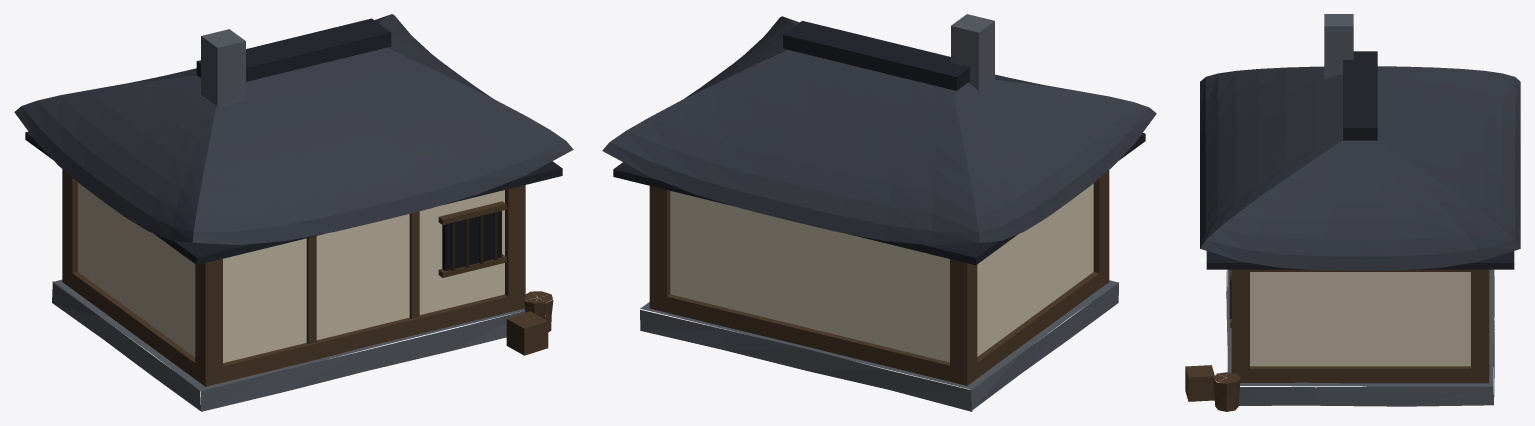
The model's file is 2-06_blacksmith.glb.
The picture shows the model from 3 angles, left to right: view 1: azimuth 30°, elevation 25°; view 2: azimuth 150°, elevation 25°; view 3: azimuth 270°, elevation 25°; orthographic projection. The views are drawn at different scales.
Parts seen in each view (by area): view 1: 鍛冶屋; view 2: 鍛冶屋; view 3: 鍛冶屋.
Boxes of the visible parts, box(x1,y1,x2,y2) form: 鍛冶屋: box(14, 14, 573, 411); 鍛冶屋: box(602, 14, 1156, 411); 鍛冶屋: box(1185, 14, 1520, 411).
Size of the model in its own units: 7.4 by 5.71 by 6.28.
